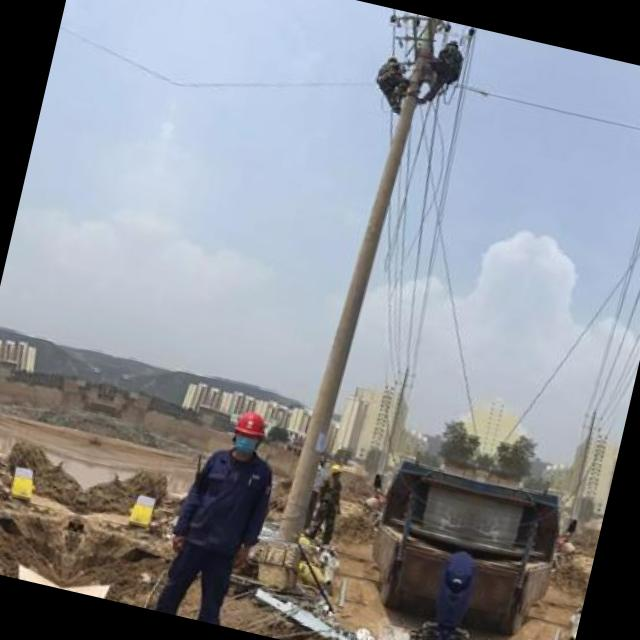helmet: (225, 404, 272, 459), (325, 456, 350, 486)
